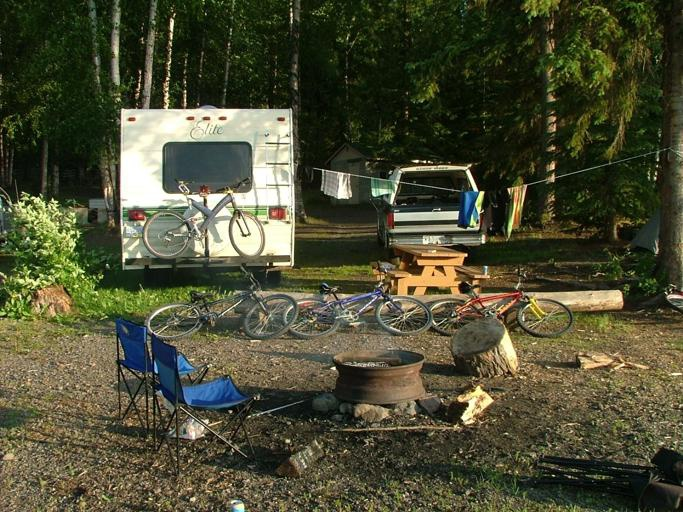non-vehicle: (143, 262, 298, 339), (283, 260, 431, 337), (142, 177, 265, 258), (430, 273, 572, 337)
